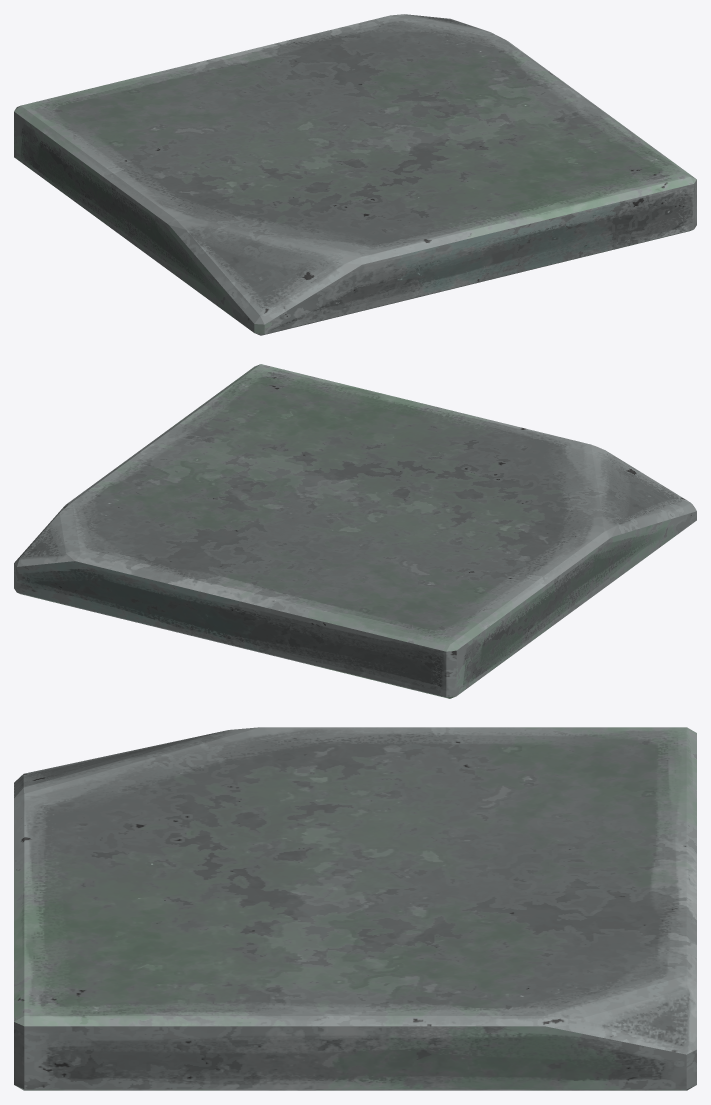
File: roadplane03.fbx
3 views of the same model, one above another, from view 1: azimuth 30°, elevation 25°; view 2: azimuth 150°, elevation 25°; view 3: azimuth 270°, elevation 25° (orthographic). The views are drawn at different scales.
Visible parts, largest first — view 1: roadplane03; view 2: roadplane03; view 3: roadplane03.
Boxes of the visible parts, bbox=[...] form: roadplane03: bbox=[14, 14, 696, 335]; roadplane03: bbox=[14, 364, 696, 698]; roadplane03: bbox=[14, 727, 696, 1090].
Size of the model in its own units: 444 by 52.03 by 430.
